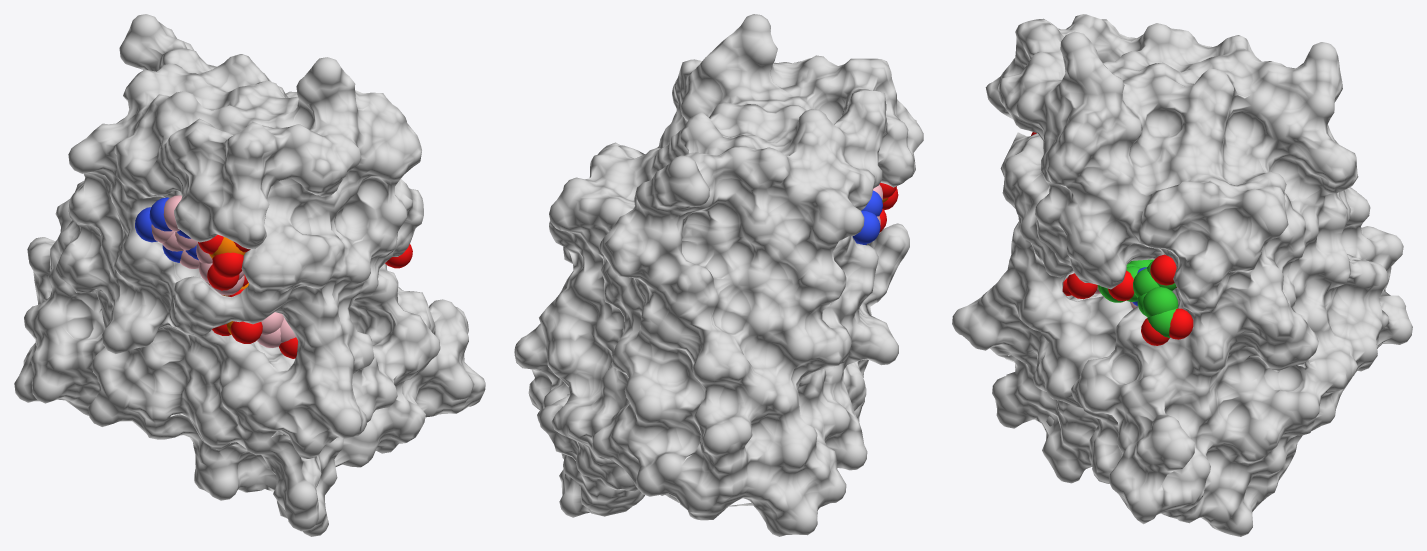
The model's file is DHF + NADPH + DHFR.dae.
The picture shows the model from 3 angles, left to right: view 1: azimuth 30°, elevation 25°; view 2: azimuth 150°, elevation 25°; view 3: azimuth 270°, elevation 25°; orthographic projection. The views are drawn at different scales.
Parts seen in each view (by area): view 1: subnode_80, subnode_79, subnode_57; view 2: subnode_80, subnode_49; view 3: subnode_80, subnode_25, subnode_31, subnode_27.
Part boxes in pixels (x1=…): subnode_80: x1=14, y1=14, x2=485, y2=536; subnode_79: x1=212, y1=252, x2=243, y2=277; subnode_57: x1=230, y1=321, x2=262, y2=343; subnode_80: x1=514, y1=14, x2=923, y2=536; subnode_49: x1=852, y1=211, x2=880, y2=244; subnode_80: x1=952, y1=14, x2=1412, y2=536; subnode_25: x1=1142, y1=287, x2=1178, y2=317; subnode_31: x1=1150, y1=254, x2=1176, y2=285; subnode_27: x1=1169, y1=308, x2=1193, y2=339.
Bounding box in the file's own units: 40.37 × 47.4 × 43.34.
